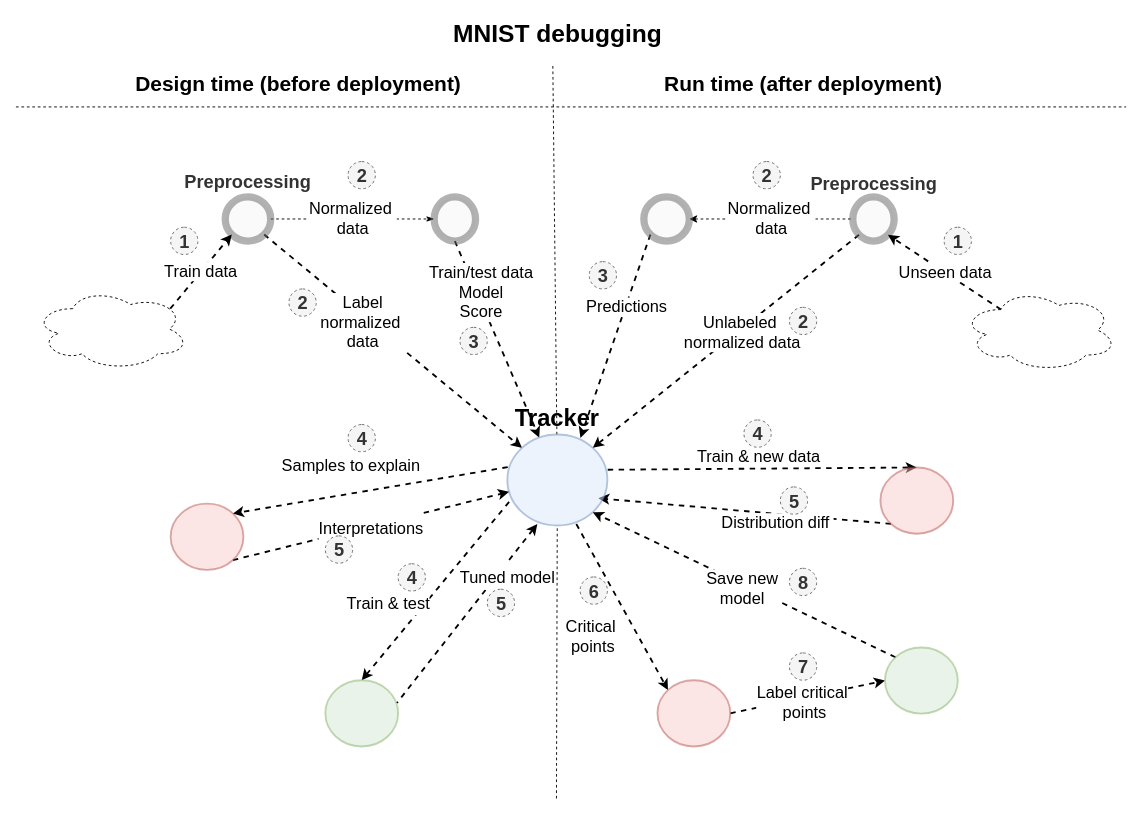
Image size: 1143x815. Some labels were removed from this diagram. The shapes that lost their labels are listed below. From the top down, each one's box as (x1, y1, x2, y2) in pixels, then its label:
(430, 193, 479, 244): Modeling
(640, 193, 693, 244): API model
(33, 287, 189, 370): Labeled MNIST
(961, 288, 1117, 372): New unlabeled MNIST
(879, 466, 954, 534): Checker (Distribution Drift)
(169, 502, 244, 570): Checker (Interpretability)
(884, 646, 958, 714): Improver (Retrain)
(324, 679, 399, 747): Improver (Hyperparameter Tuning)
(656, 679, 731, 747): Checker (Active Learning)
